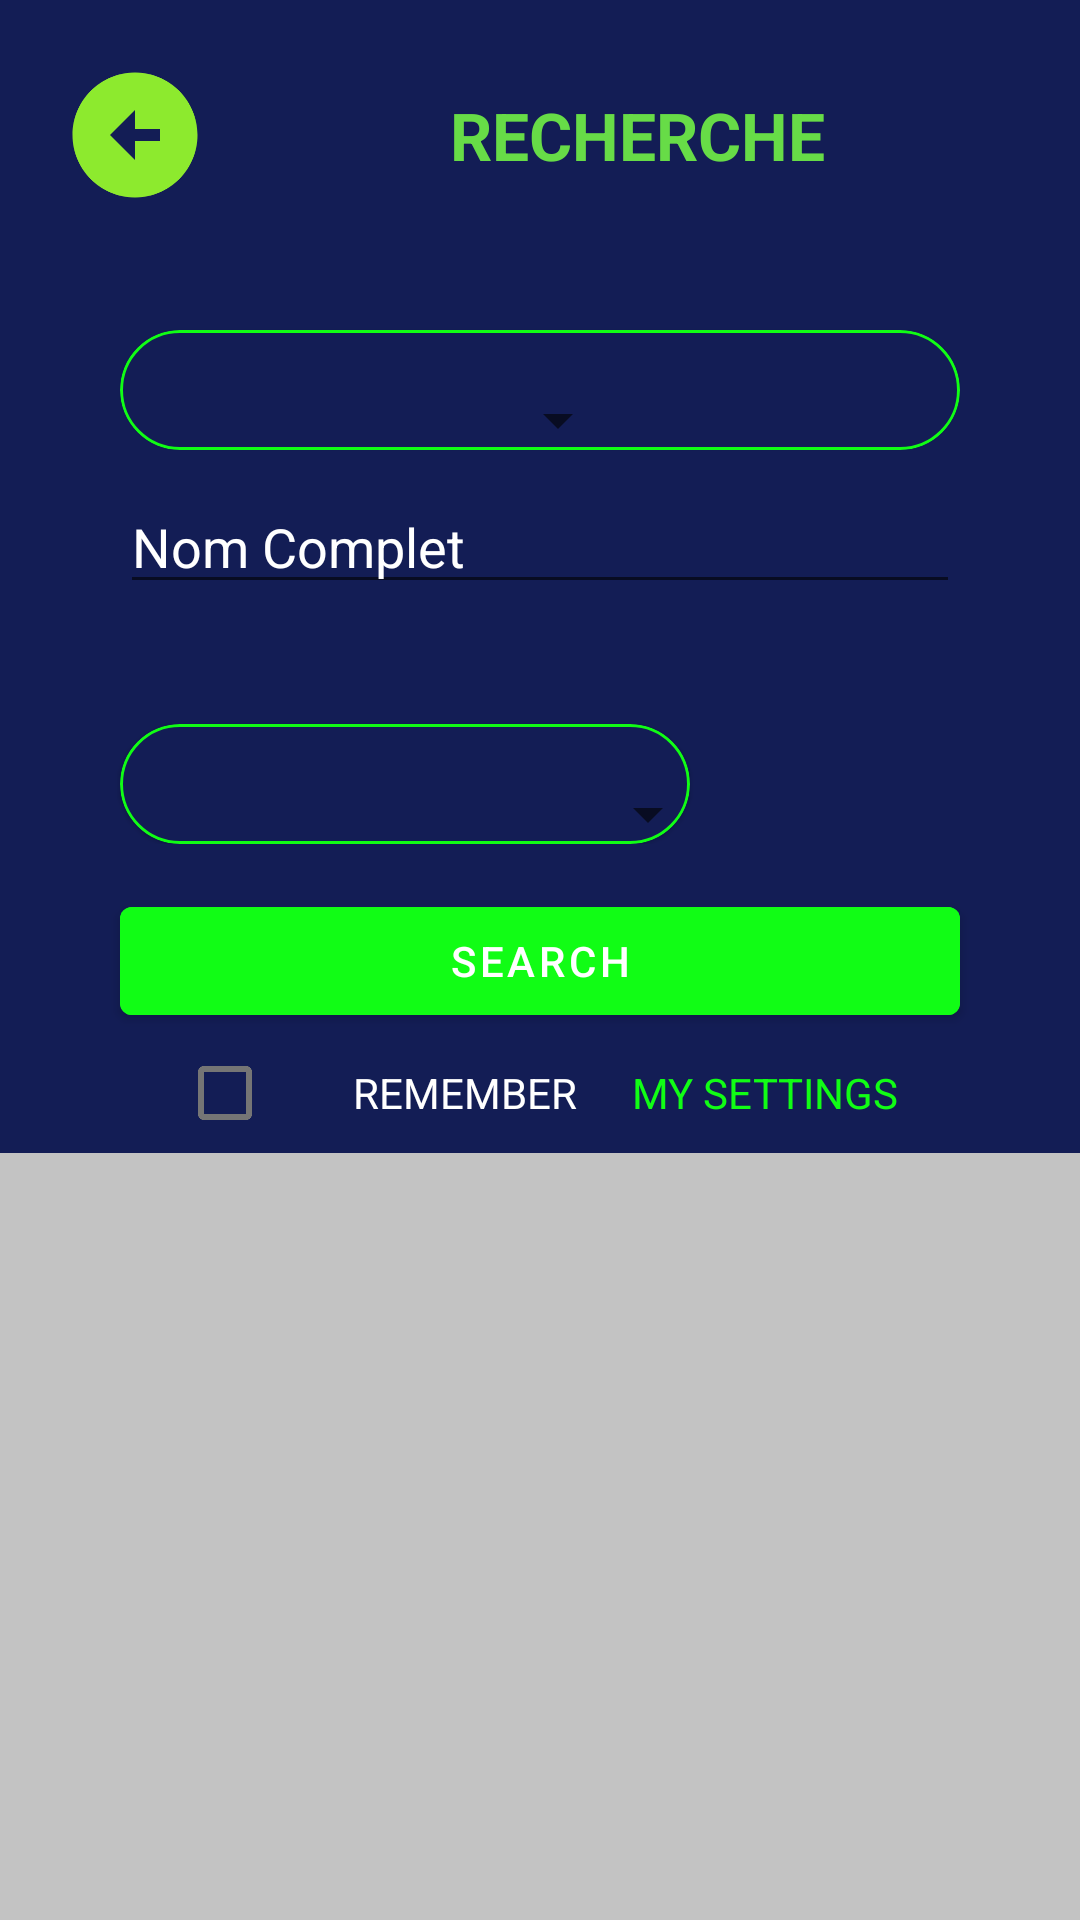

Locate icon controls on the screen. Image size 1080w x 1920h, boxes as (x1, y1, x2, y2).
arrow left: (72, 72, 198, 198)
